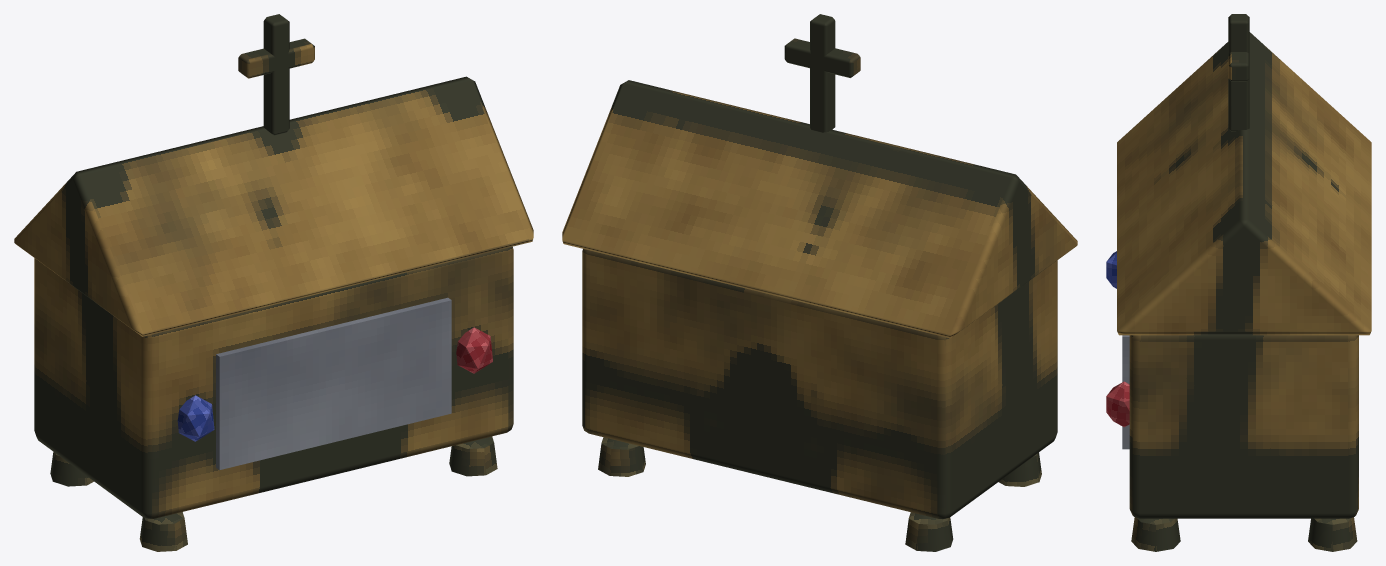
File: reliquary.glb
The picture shows the model from 3 angles, left to right: view 1: azimuth 30°, elevation 25°; view 2: azimuth 150°, elevation 25°; view 3: azimuth 270°, elevation 25°; orthographic projection.
Visible parts, largest first — view 1: reliquary; view 2: reliquary; view 3: reliquary.
Part boxes in pixels (x1=…): reliquary: x1=14, y1=14, x2=533, y2=551; reliquary: x1=562, y1=14, x2=1077, y2=551; reliquary: x1=1106, y1=14, x2=1371, y2=551.
Bounding box in the file's own units: 0.26 × 0.285 × 0.1504.
Materials: 1 (1 with a texture image).
